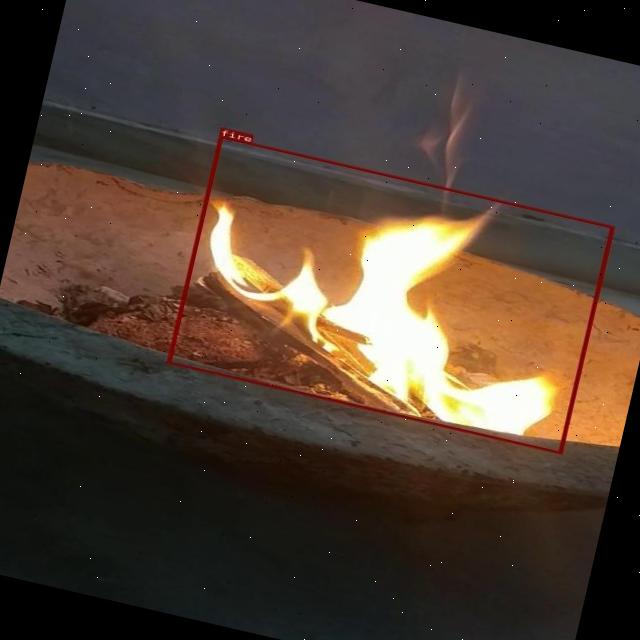fire: (165, 134, 612, 453)
